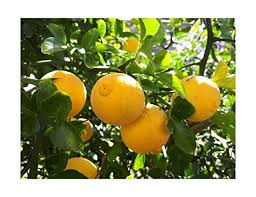orange: (89, 73, 149, 129), (121, 103, 172, 156), (169, 70, 221, 121), (37, 68, 88, 118)
